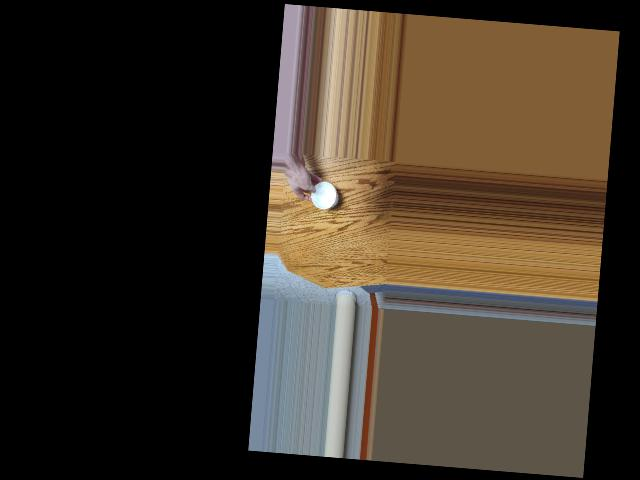cotage: (308, 180, 338, 215)
